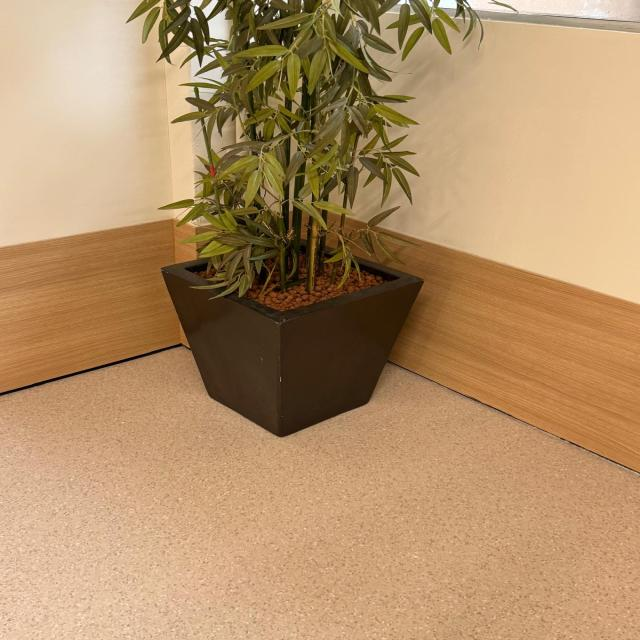Pot: (157, 235, 426, 437)
